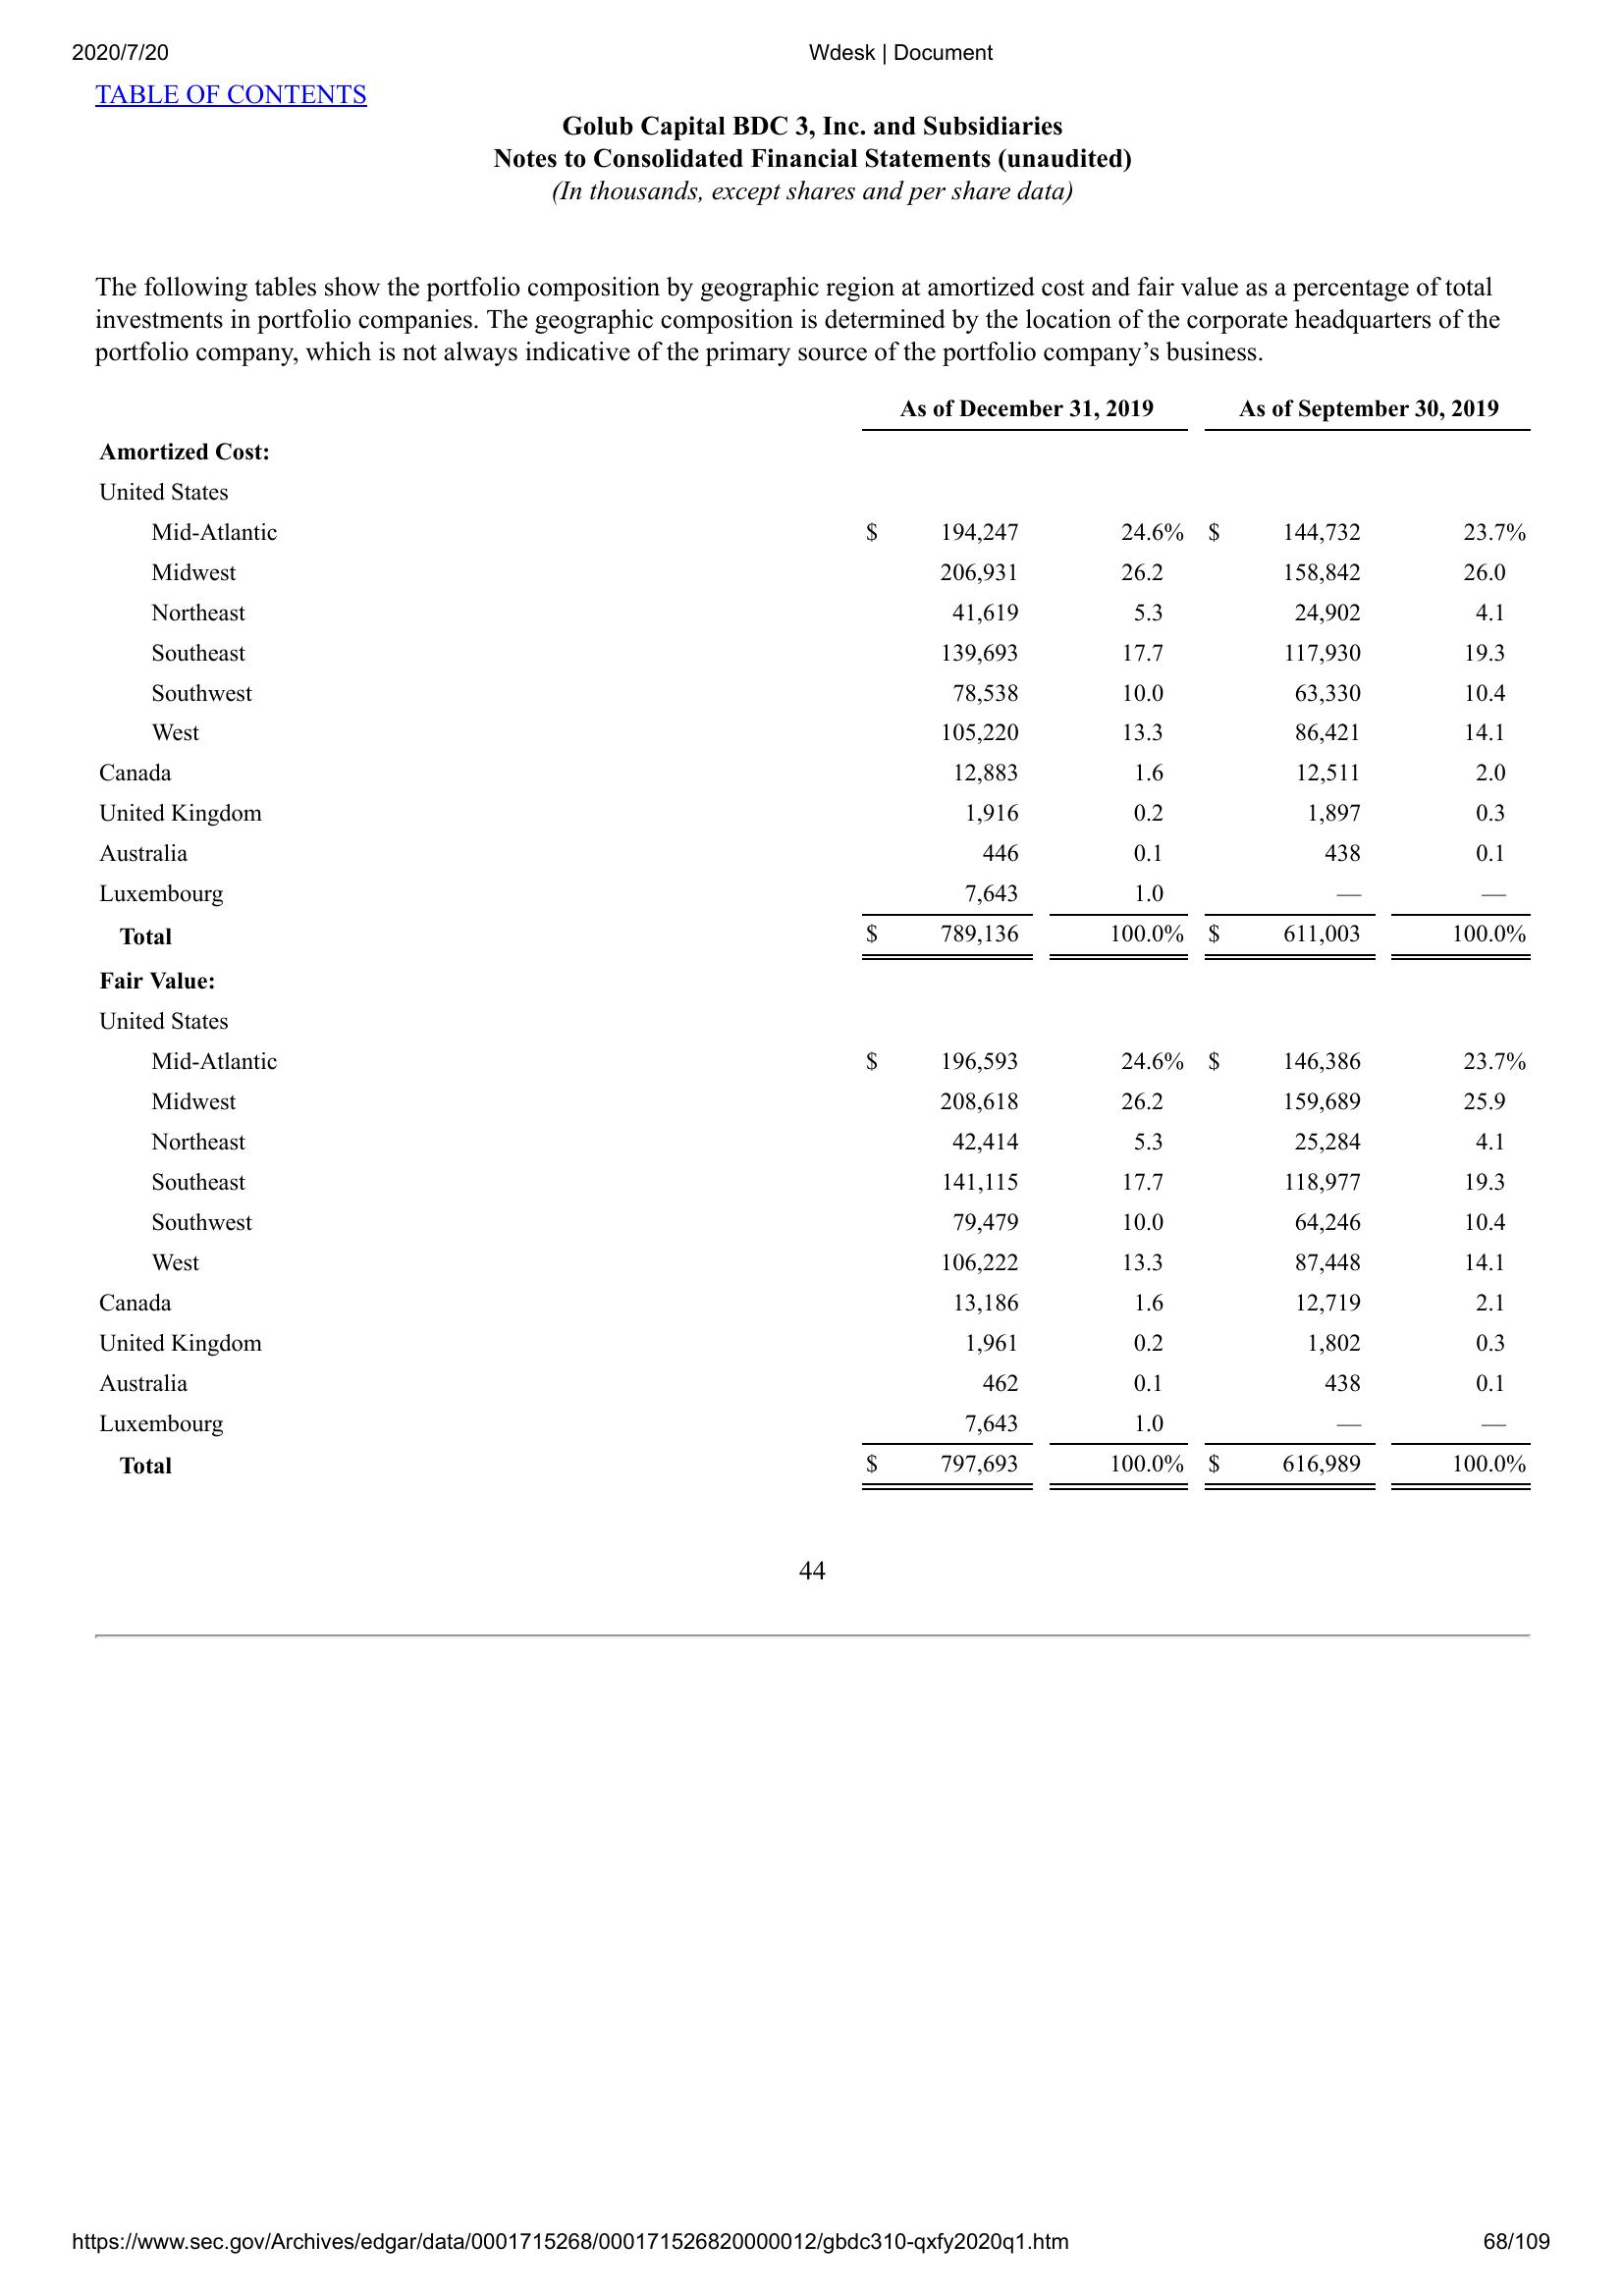table: (83, 384, 1546, 1503)
